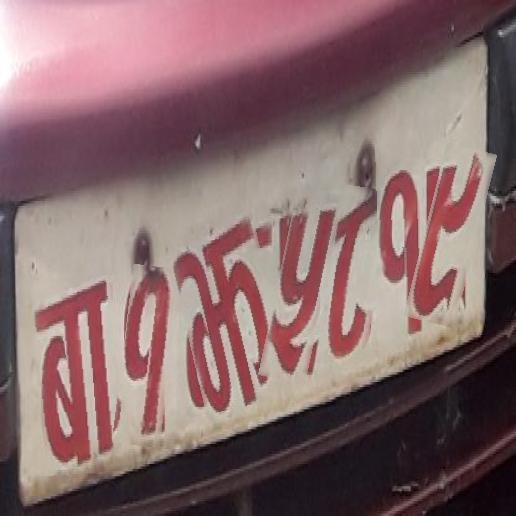1: (118, 265, 176, 447), (377, 144, 422, 352)
5: (268, 188, 336, 383)
8: (323, 185, 383, 368)
9: (414, 144, 487, 327)
ba: (34, 277, 125, 475)
jha: (174, 214, 286, 421)
